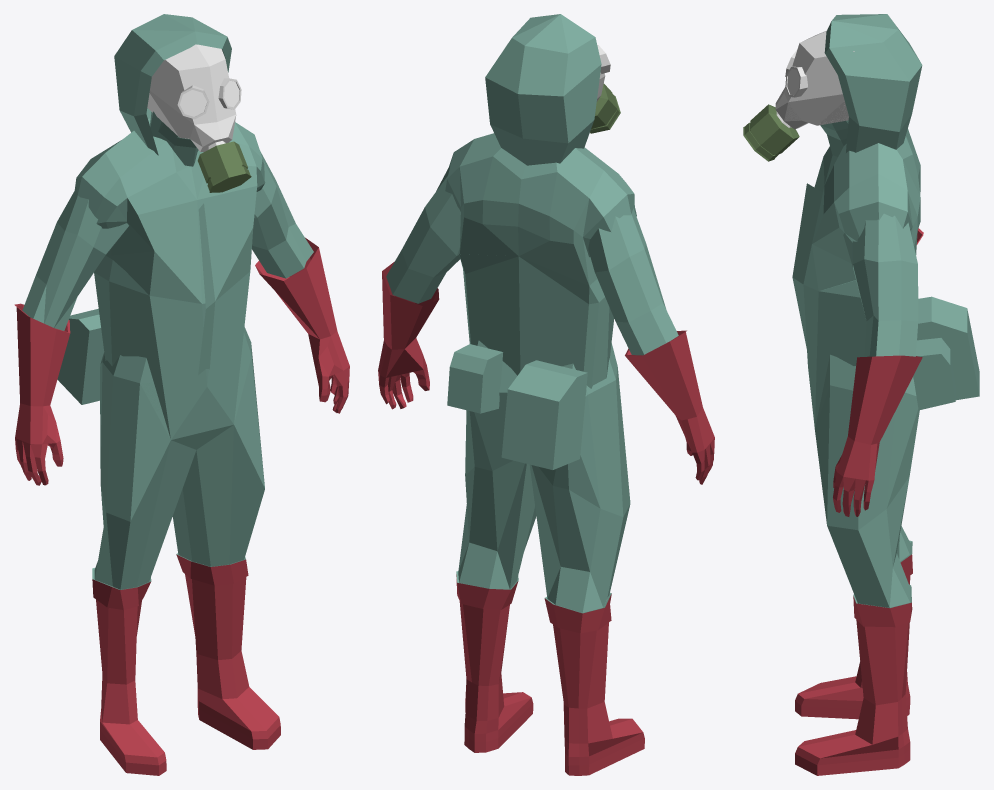
The model's file is low_poly_soviet_nbc_suit.glb.
The picture shows the model from 3 angles, left to right: view 1: azimuth 30°, elevation 25°; view 2: azimuth 150°, elevation 25°; view 3: azimuth 270°, elevation 25°; orthographic projection.
Visible parts, largest first — view 1: Main_0; view 2: Main_0; view 3: Main_0.
Part boxes in pixels (bbox=[...]): Main_0: bbox=[14, 14, 349, 775]; Main_0: bbox=[378, 14, 714, 775]; Main_0: bbox=[743, 14, 979, 775].
Size of the model in its own units: 2.02 by 4.27 by 1.28.
